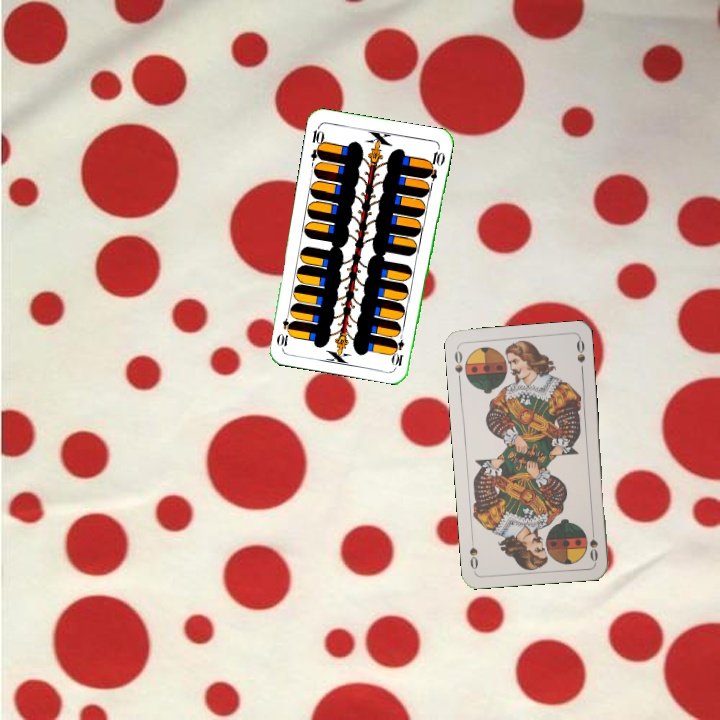E10: (307, 123, 327, 163), (391, 328, 407, 369)
SO: (450, 344, 465, 385), (586, 523, 600, 564)
